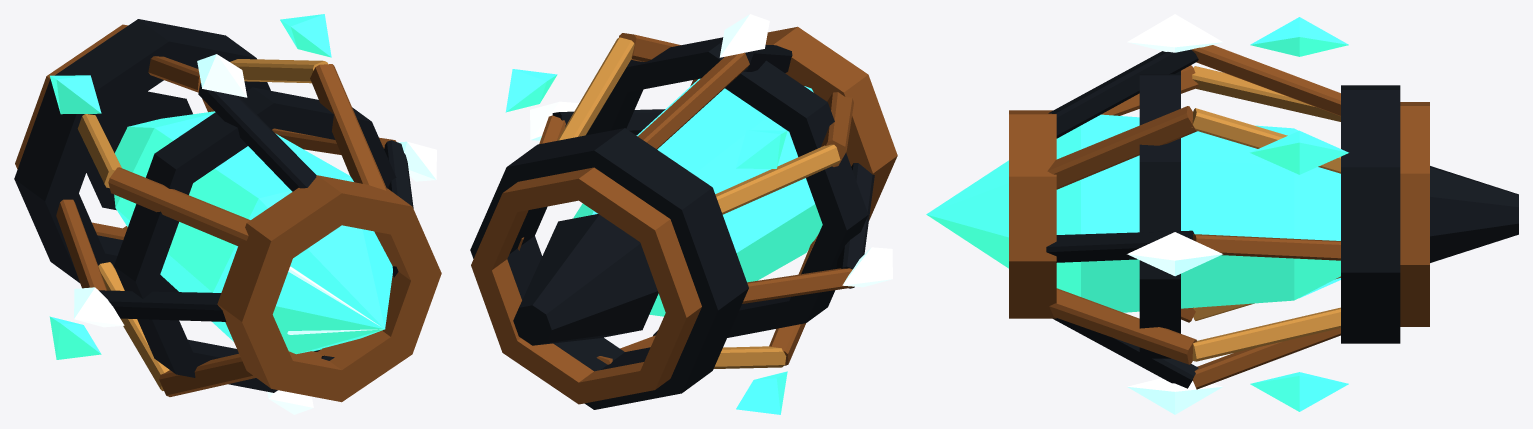
File: projectile-mage-burst.glb
The picture shows the model from 3 angles, left to right: view 1: azimuth 30°, elevation 25°; view 2: azimuth 150°, elevation 25°; view 3: azimuth 270°, elevation 25°; orthographic projection. The views are drawn at different scales.
Visible parts, largest first — view 1: projectile-mage-burst; view 2: projectile-mage-burst; view 3: projectile-mage-burst.
Boxes of the visible parts, bbox=[...] form: projectile-mage-burst: bbox=[14, 14, 441, 414]; projectile-mage-burst: bbox=[470, 14, 897, 414]; projectile-mage-burst: bbox=[926, 14, 1518, 414].
Bounding box in the file's own units: 0.55 × 0.55 × 0.81.
1 material, 1 textured.
